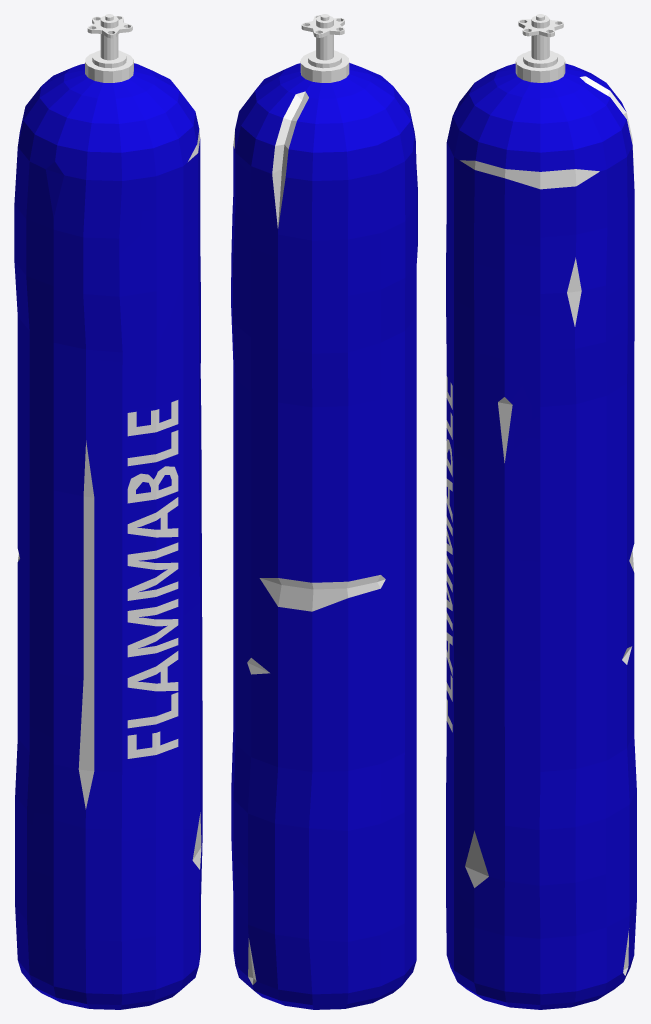
Rendered from SM_GAS_CYLINDER_01.glb.
3 renders of one model, left to right at view 1: azimuth 30°, elevation 25°; view 2: azimuth 150°, elevation 25°; view 3: azimuth 270°, elevation 25°, orthographic.
Parts seen in each view (by area): view 1: SM_GAS_CYLINDER_01; view 2: SM_GAS_CYLINDER_01; view 3: SM_GAS_CYLINDER_01.
Boxes of the visible parts, box(x1,y1,x2,y2) form: SM_GAS_CYLINDER_01: box(14, 14, 202, 1009); SM_GAS_CYLINDER_01: box(231, 14, 417, 1009); SM_GAS_CYLINDER_01: box(446, 14, 636, 1009).
Size of the model in its own units: 0.3029 by 1.7 by 0.3055.
